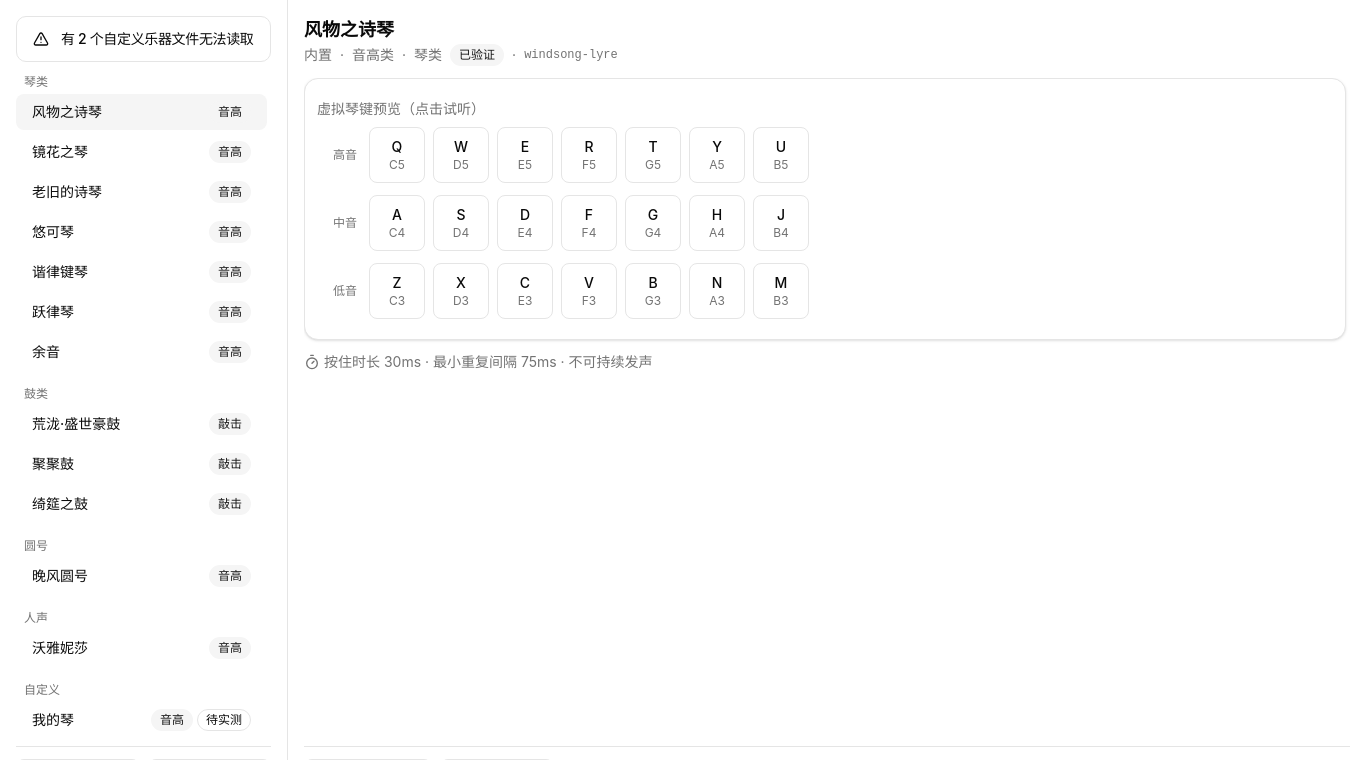
Scenario: InstrumentsPage 列表与详情 › 无法读取的自定义乐器文件显示警告并可展开
This screenshot has width=1366, height=760.
Expected: the text "我的琴" is shown, [32, 710, 74, 730]
Expected: the text "待实测" is shown once, [197, 709, 251, 731]
Click the button "有 2 个自定义乐器文件无法读取". click: (157, 39)
box: [61, 29, 254, 49]
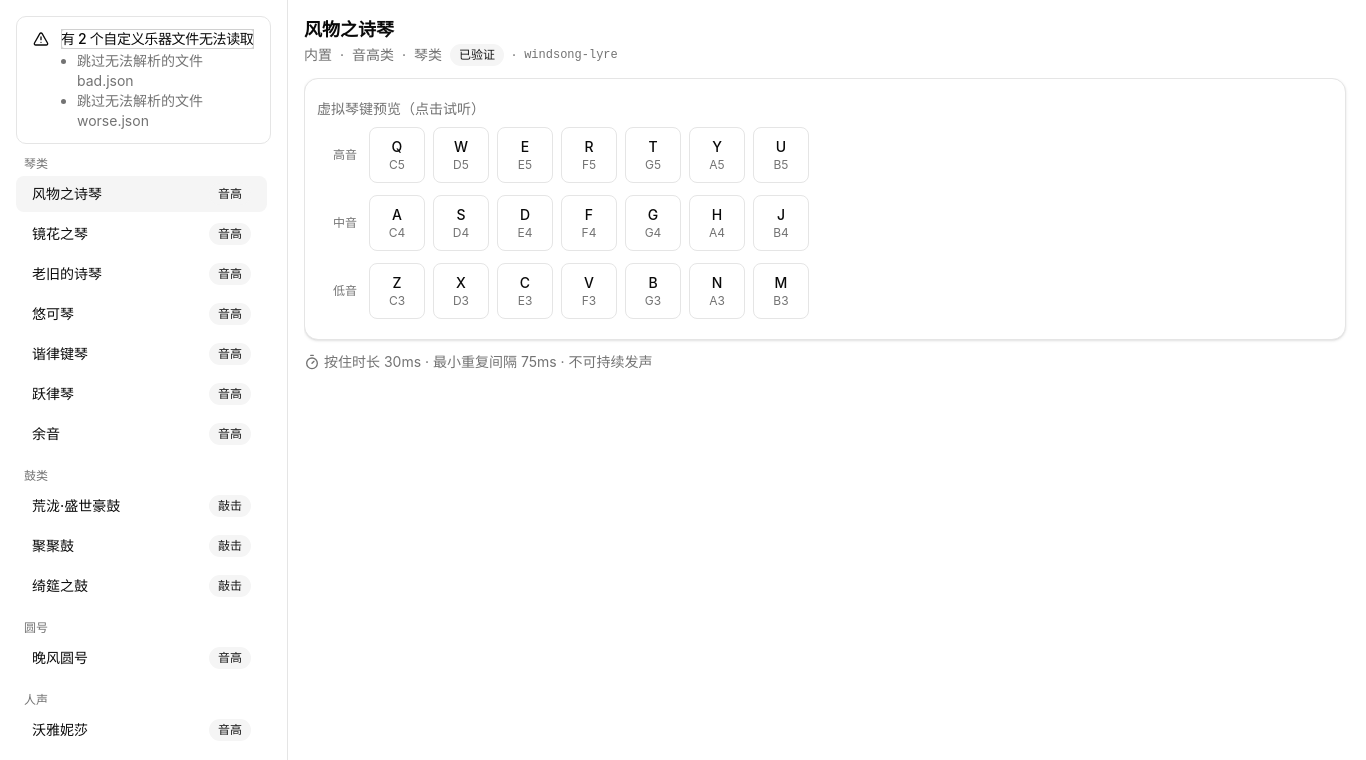
Expected: the list item "跳过无法解析的文件 bad.json" is shown, [77, 52, 203, 89]
Expected: the list item "跳过无法解析的文件 worse.json" is shown, [77, 92, 203, 129]
